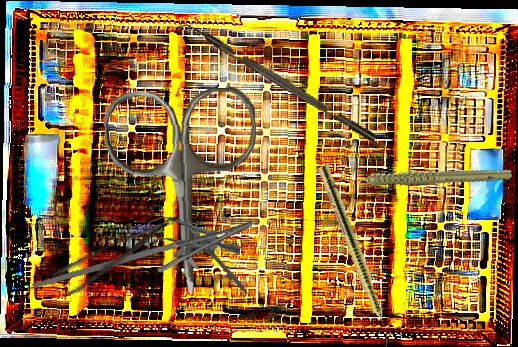Chopper: (172, 14, 378, 153)
Dressing Forceps: (50, 211, 191, 300)
Handpiece: (314, 164, 398, 347), (339, 134, 515, 216)
Iris Scissors: (102, 86, 265, 297)
Needle Holder: (31, 193, 261, 333)
Pusher: (181, 219, 260, 309)
Speculum: (125, 214, 243, 263)
